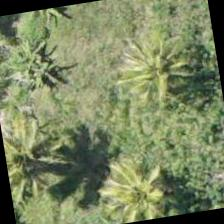Kelapa_Sawit: (110, 18, 212, 120), (86, 137, 188, 223), (0, 94, 75, 194)
